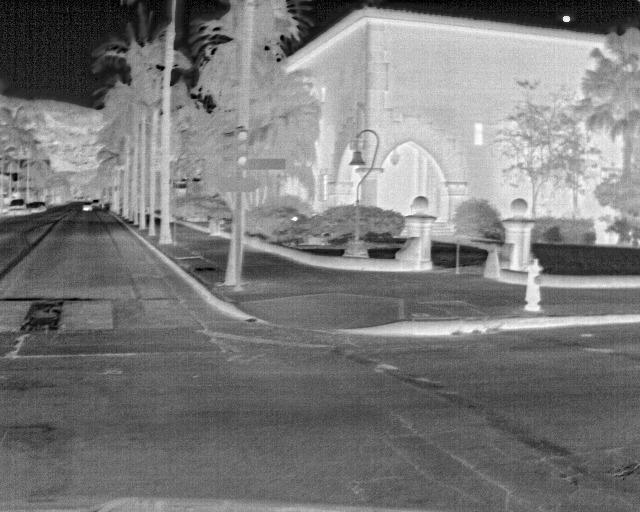car: (6, 198, 27, 216), (26, 201, 40, 215), (90, 198, 101, 209), (80, 203, 91, 213)
